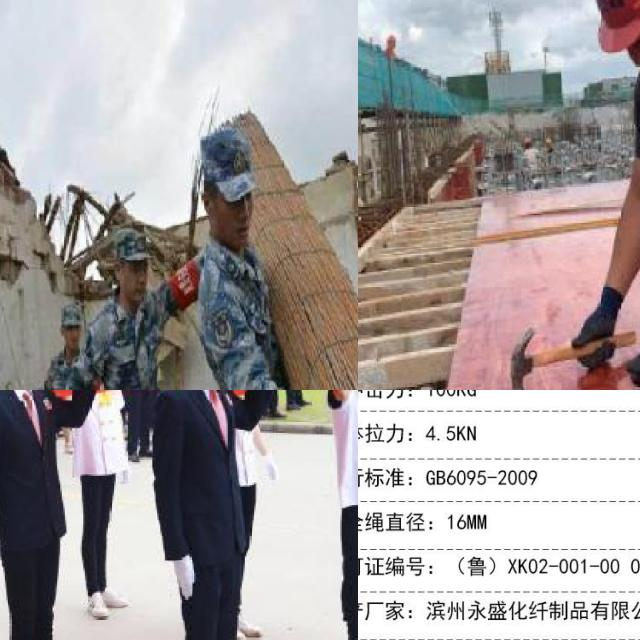face_nomask: (214, 177, 258, 253), (117, 259, 151, 305), (623, 0, 640, 86), (64, 324, 82, 354)
hand_glove: (569, 295, 620, 372), (173, 553, 197, 599), (264, 452, 280, 483), (117, 462, 131, 485), (3, 377, 26, 390)
head_nohelmet: (194, 125, 260, 193), (113, 226, 155, 266), (54, 301, 92, 329)
person: (504, 0, 640, 390), (183, 119, 358, 390), (143, 390, 257, 640), (0, 390, 97, 640), (81, 225, 199, 390), (315, 390, 358, 640), (32, 306, 109, 390)
shoes: (82, 590, 111, 620), (96, 588, 131, 610)
